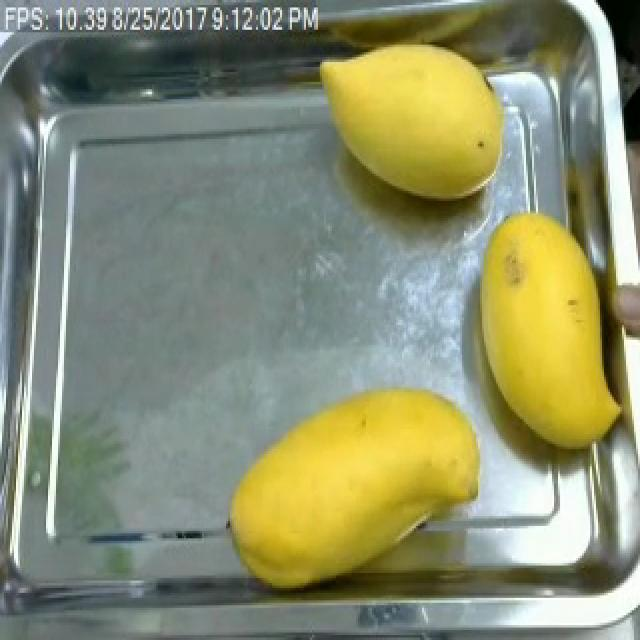fruit: (216, 375, 500, 600), (454, 194, 638, 466), (308, 15, 532, 228)
